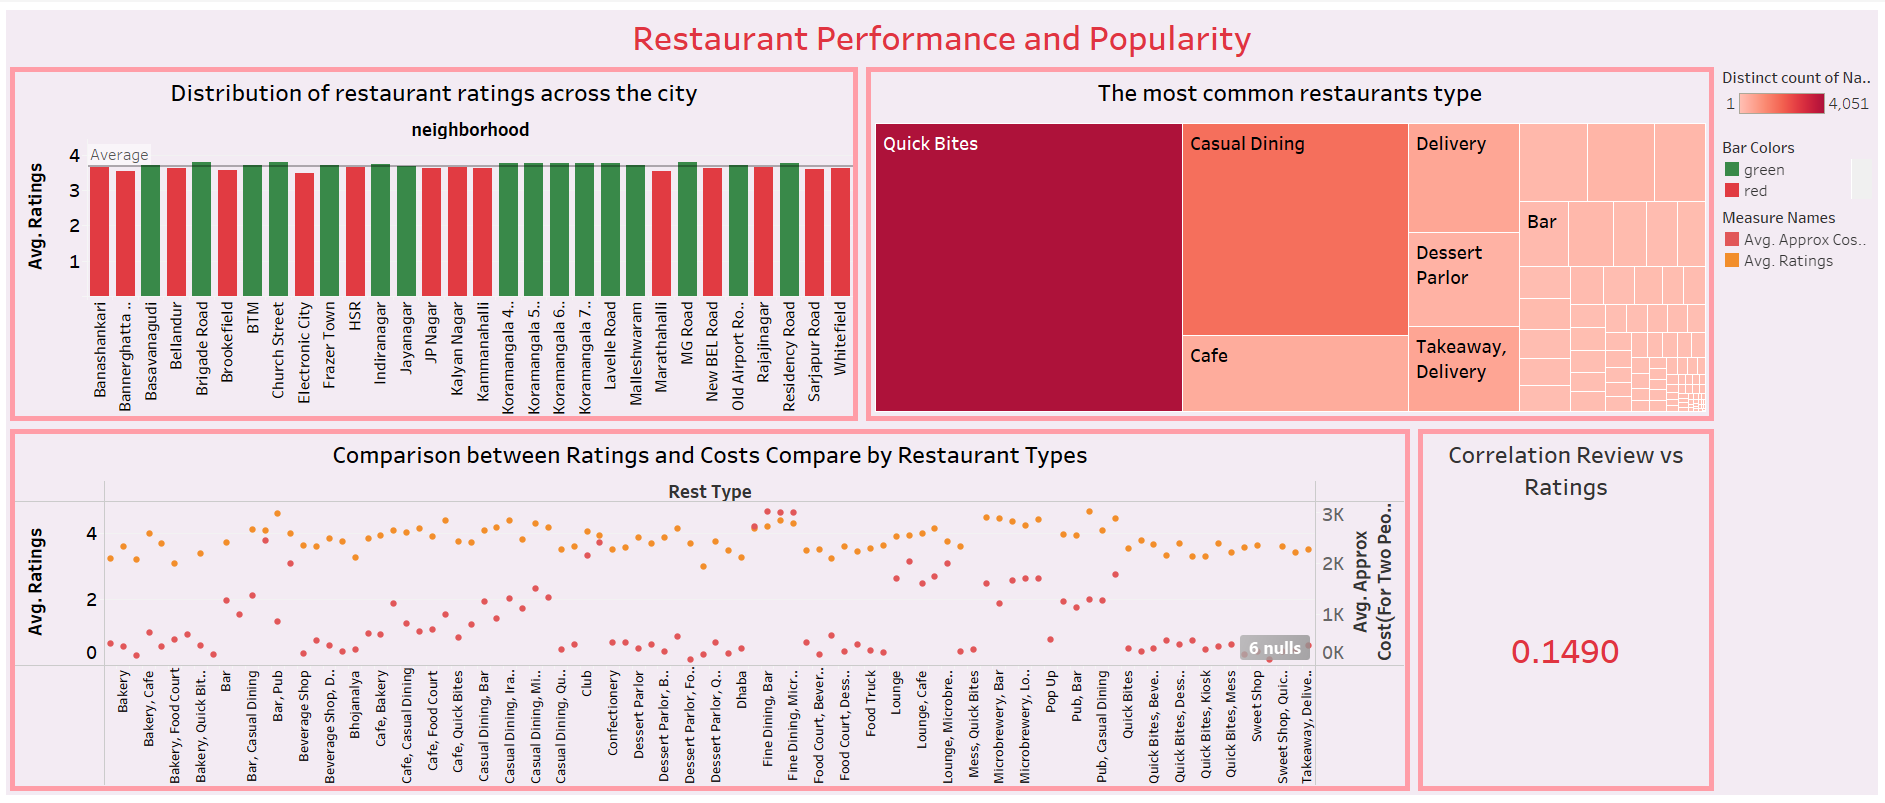

What the dashboard file says about the page in this screenshot:
{"tool":"tableau","page":{"name":"Restaurant Performance & Popularity","canvas":[1000,1000],"units":"permille","ordinal":3},"visuals":[{"type":"title","box":[4.2,10,991.5,66.2]},{"type":"worksheet","title":"Sheet 4","mark":"Bar","rows":["rate - Split 1"],"cols":["listed_in(city)"],"box":[4.2,76.2,453.4,452.3]},{"type":"worksheet","title":"Sheet 10","mark":"Automatic","box":[457.6,76.2,453.4,452.3]},{"type":"legend","title":"Sheet 10","param":"[federated.1rjx80k109967o16bbaiv08kjs3t].[ctd:name:qk]","box":[911,76.2,84.8,87.3]},{"type":"legend","title":"Sheet 4","param":"[federated.1rjx80k109967o16bbaiv08kjs3t].[usr:Calculation_928585973484310528:nk]","box":[911,163.4,84.8,87.3]},{"type":"legend","title":"Sheet 11","param":"[federated.1rjx80k109967o16bbaiv08kjs3t].[:Measure Names]","box":[911,250.8,84.8,739.3]},{"type":"worksheet","title":"Sheet 11","mark":"Automatic","rows":["rate - Split 1","approx_cost(for two people)"],"cols":["rest_type"],"box":[4.2,528.5,745.7,461.6]},{"type":"worksheet","title":"Sheet 5","mark":"Automatic","box":[749.9,528.5,161.1,461.6]}]}

Visuals, with their boxes on the dashboard's canvas, which has no fixed pixel size, in thousandths of its width and height (x1, y1, x2, y2). These are canvas units, not pixel positions in the 1885x803 screenshot, which may show the page scaled, cropped or inside an application window:
title: <box>4,10,996,76</box>
"Sheet 4" worksheet (Bar marks): <box>4,76,458,528</box>
"Sheet 10" worksheet: <box>458,76,911,528</box>
"Sheet 10" legend: <box>911,76,996,164</box>
"Sheet 4" legend: <box>911,163,996,251</box>
"Sheet 11" legend: <box>911,251,996,990</box>
"Sheet 11" worksheet: <box>4,528,750,990</box>
"Sheet 5" worksheet: <box>750,528,911,990</box>
